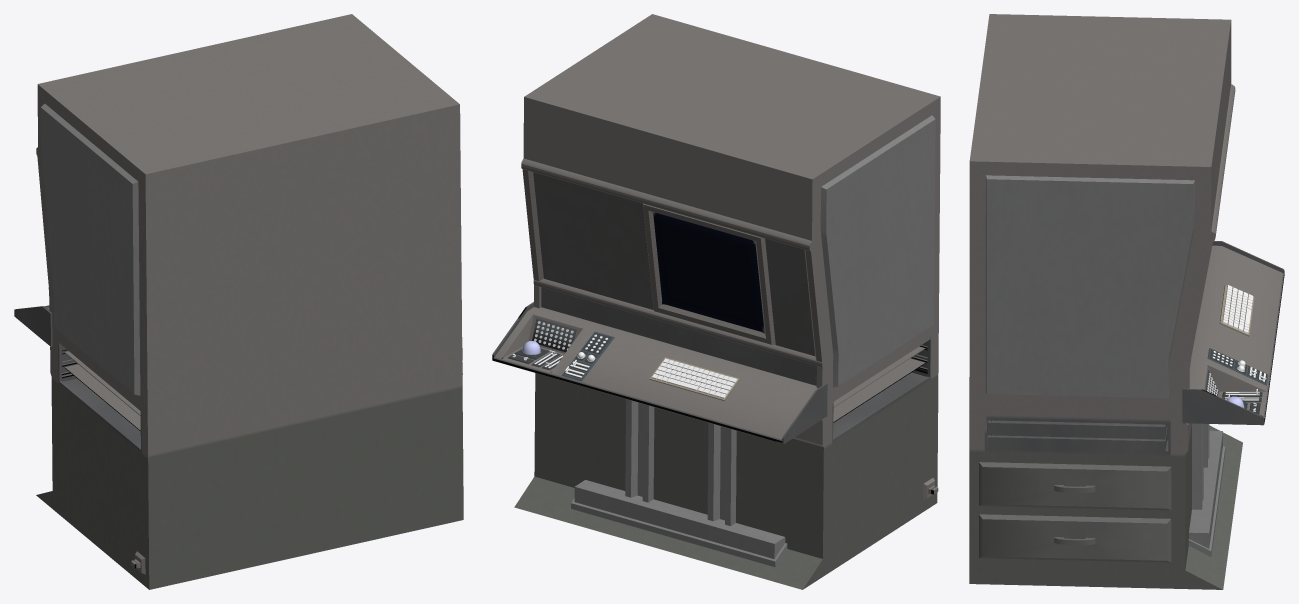
File: lc_terminal.glb
The picture shows the model from 3 angles, left to right: view 1: azimuth 30°, elevation 25°; view 2: azimuth 150°, elevation 25°; view 3: azimuth 270°, elevation 25°; orthographic projection. The views are drawn at different scales.
Parts seen in each view (by area): view 1: Terminal_Baked; view 2: Terminal_Baked, LeftKeys_Baked; view 3: Terminal_Baked, LeftKeys_Baked.
Part boxes in pixels (box(x1,y1,x2,y2)): Terminal_Baked: box(14, 14, 463, 589); Terminal_Baked: box(492, 14, 940, 589); LeftKeys_Baked: box(508, 318, 614, 381); Terminal_Baked: box(969, 14, 1284, 589); LeftKeys_Baked: box(1205, 348, 1268, 414).
Size of the model in its own units: 1.7 by 2.07 by 1.4.
5 materials, 4 textured.
